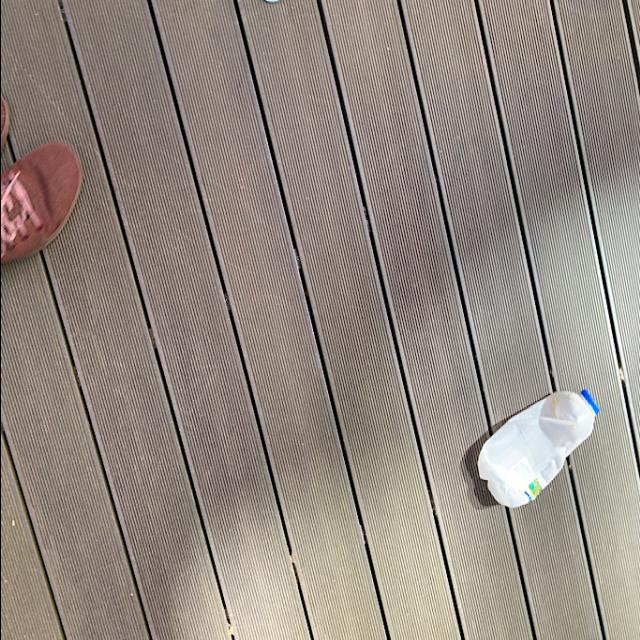litter: (474, 385, 600, 515)
